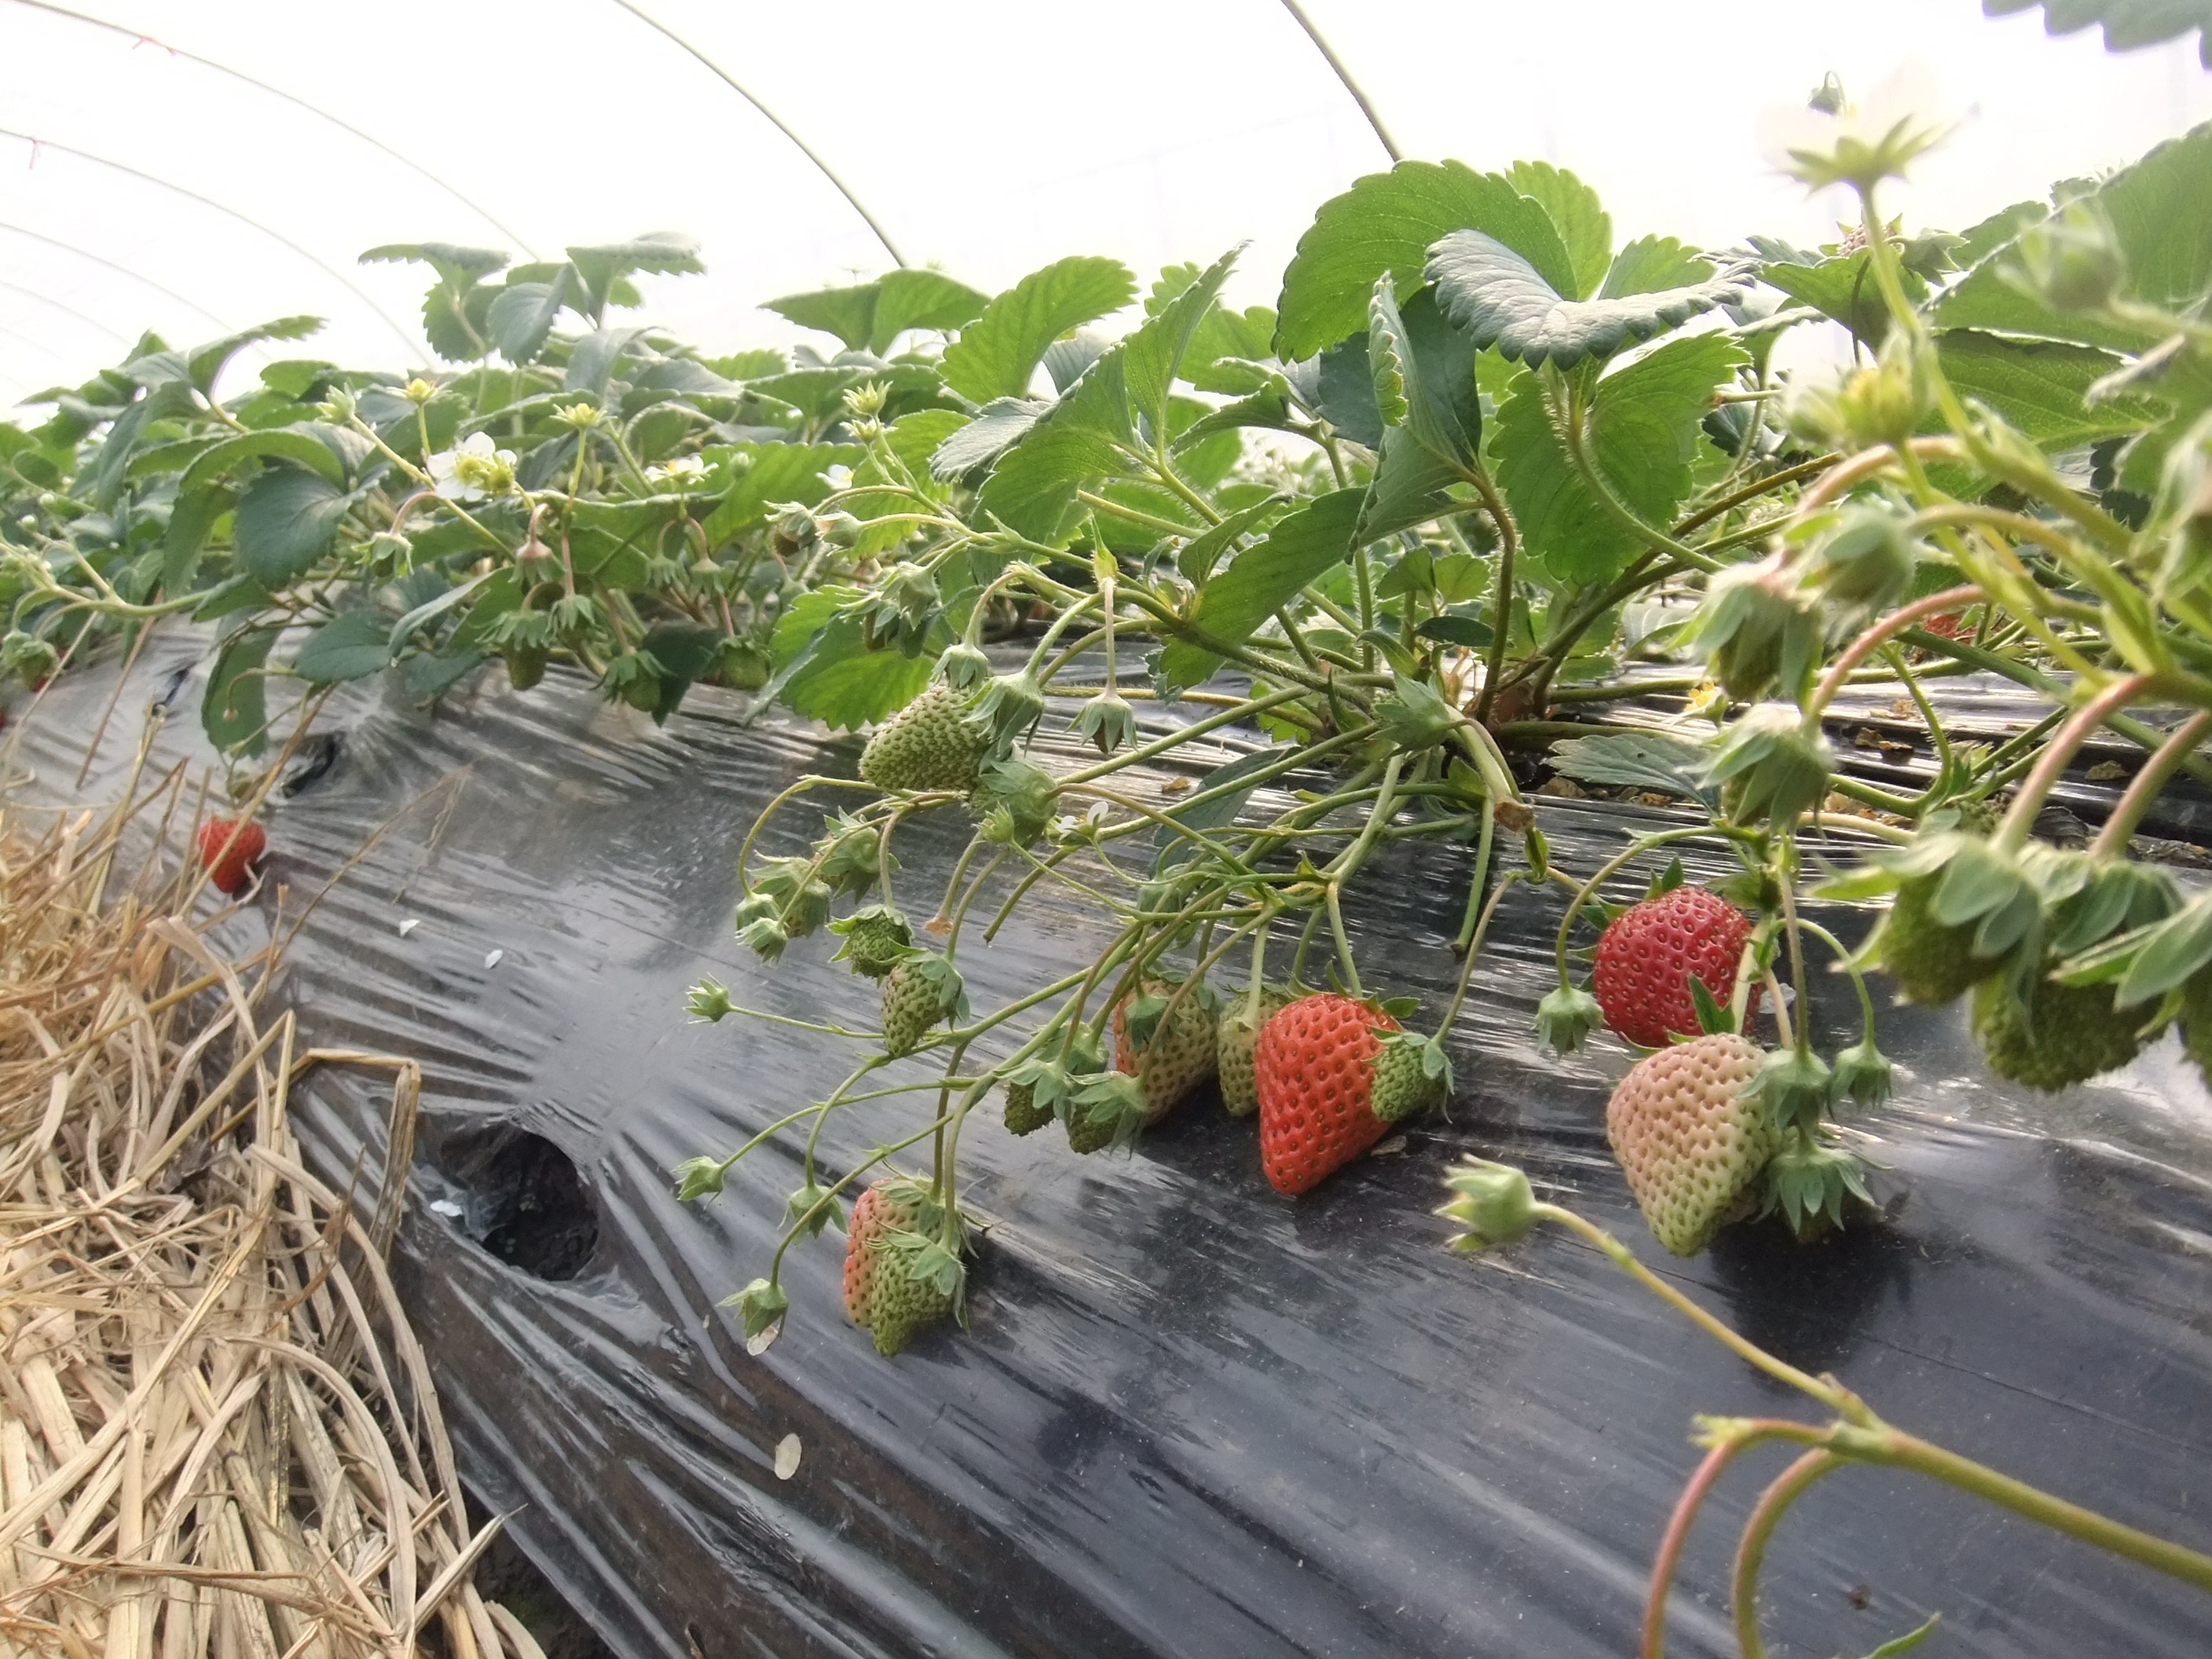StrawberryIrremovable: (1966, 833, 2188, 1089), (1590, 1040, 1806, 1269), (819, 1154, 1003, 1333), (1254, 988, 1409, 1197), (1878, 821, 2024, 1012), (1092, 932, 1228, 1121), (850, 680, 1022, 802), (1689, 573, 1839, 706), (1698, 718, 1846, 829), (862, 1237, 981, 1363), (866, 953, 989, 1051), (1195, 981, 1280, 1121), (1049, 1065, 1163, 1164), (1357, 1028, 1460, 1126), (181, 814, 286, 899), (989, 1046, 1069, 1141), (761, 857, 841, 943), (833, 901, 918, 972), (495, 608, 561, 692), (603, 645, 674, 718), (733, 1276, 794, 1342)
StrawberryOther: (1580, 866, 1796, 1046)
StrawberryRemovable: (1588, 871, 1792, 1042)
